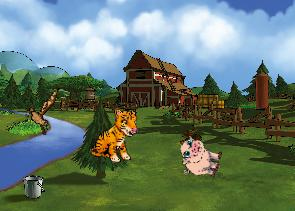eagle: (24, 88, 60, 135)
pig: (175, 134, 225, 181)
tiger: (90, 107, 139, 164)
